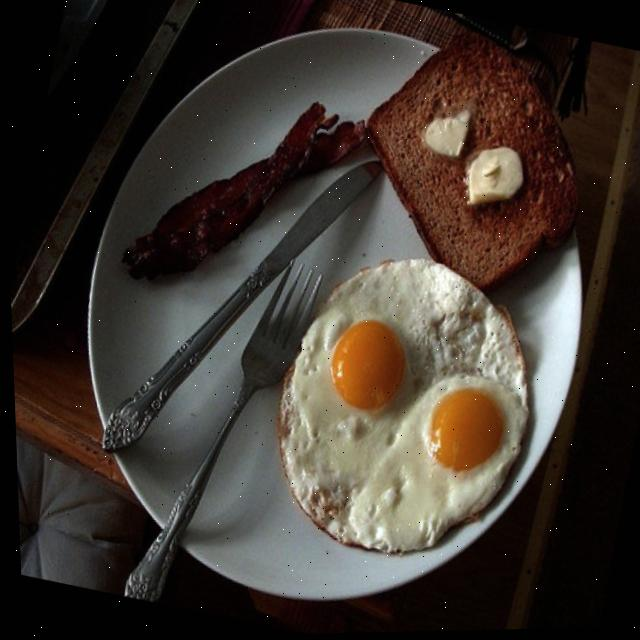鸡蛋料理: (244, 226, 577, 590)
